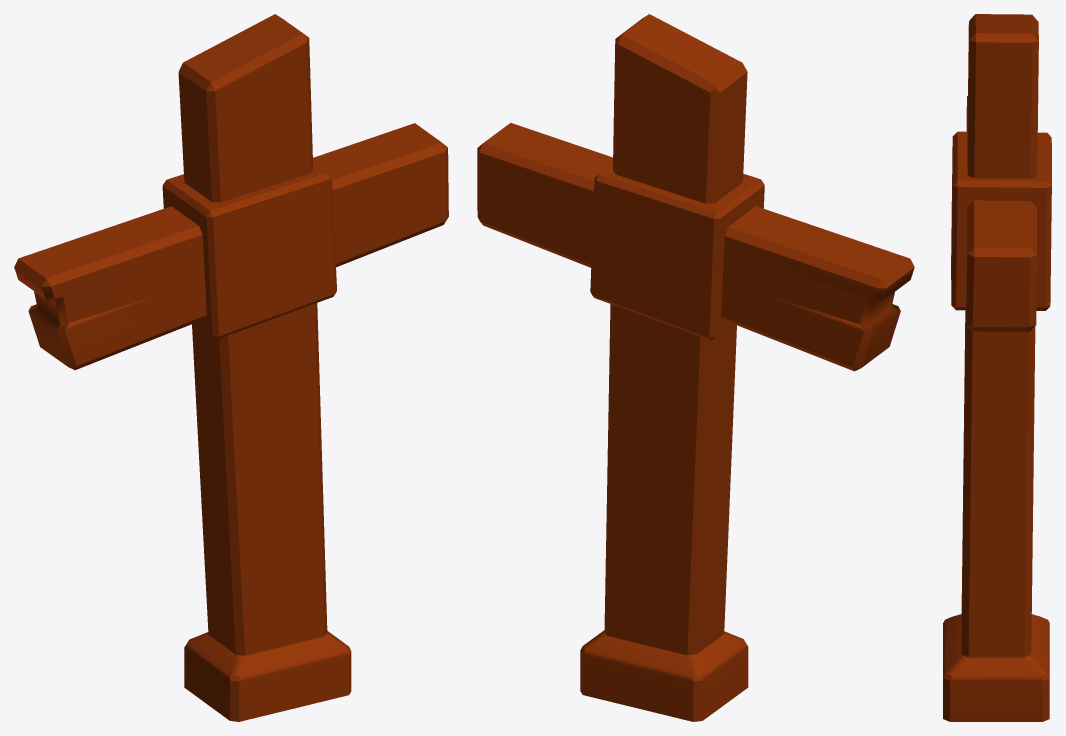
The model's file is Cross_Wooden.fbx.
3 renders of one model, left to right at view 1: azimuth 30°, elevation 25°; view 2: azimuth 150°, elevation 25°; view 3: azimuth 270°, elevation 25°, orthographic. The views are drawn at different scales.
Parts seen in each view (by area): view 1: Cross_Wooden; view 2: Cross_Wooden; view 3: Cross_Wooden.
Boxes of the visible parts, x1,y1,x2,y2 form: Cross_Wooden: (14,14,448,721); Cross_Wooden: (477,14,914,721); Cross_Wooden: (943,14,1051,721).
Bounding box in the file's own units: 0.4273 × 0.6599 × 0.0971.
